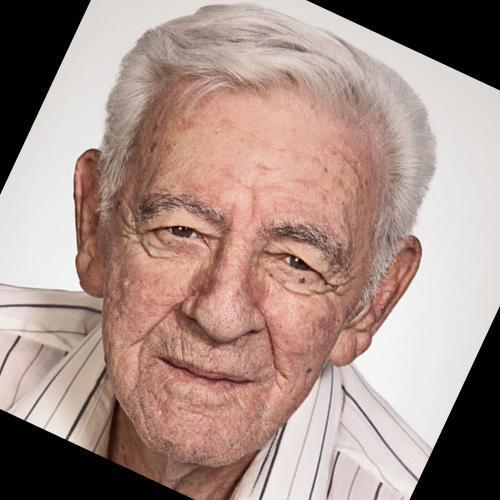Sober: (114, 78, 363, 460)
